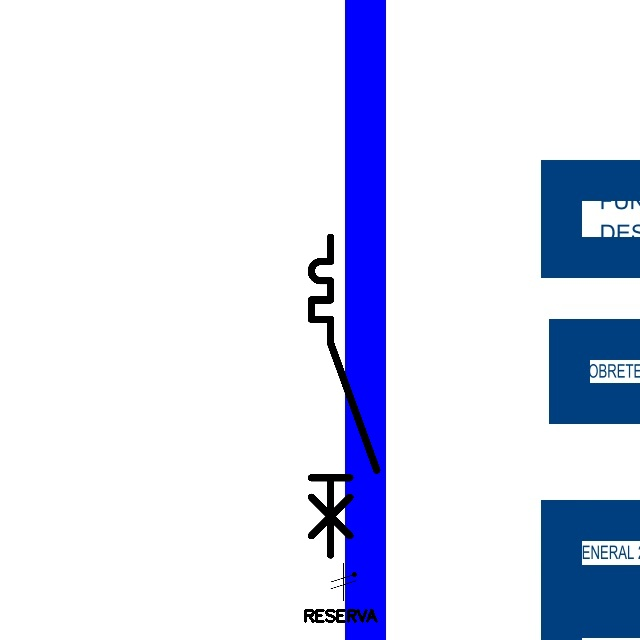interruptor_termomagnetico: (303, 229, 384, 563)
